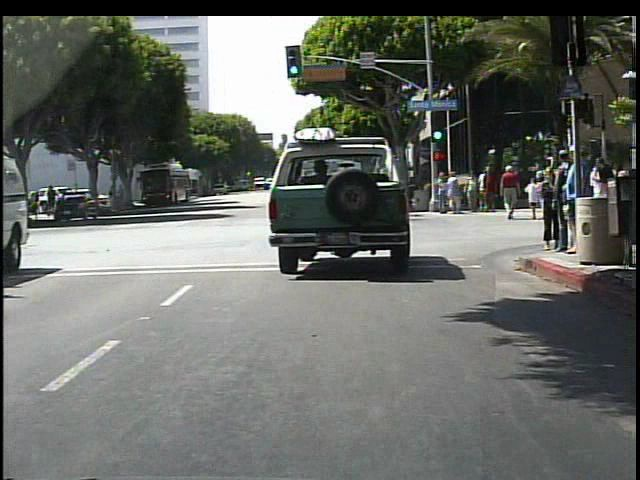person: (562, 145, 588, 263), (537, 163, 563, 251), (554, 149, 572, 256), (523, 172, 547, 225), (503, 165, 523, 223), (538, 169, 557, 219), (450, 171, 465, 217), (486, 168, 499, 212), (470, 170, 483, 212), (479, 166, 491, 211), (438, 173, 449, 216), (107, 185, 118, 209), (117, 184, 127, 210)
